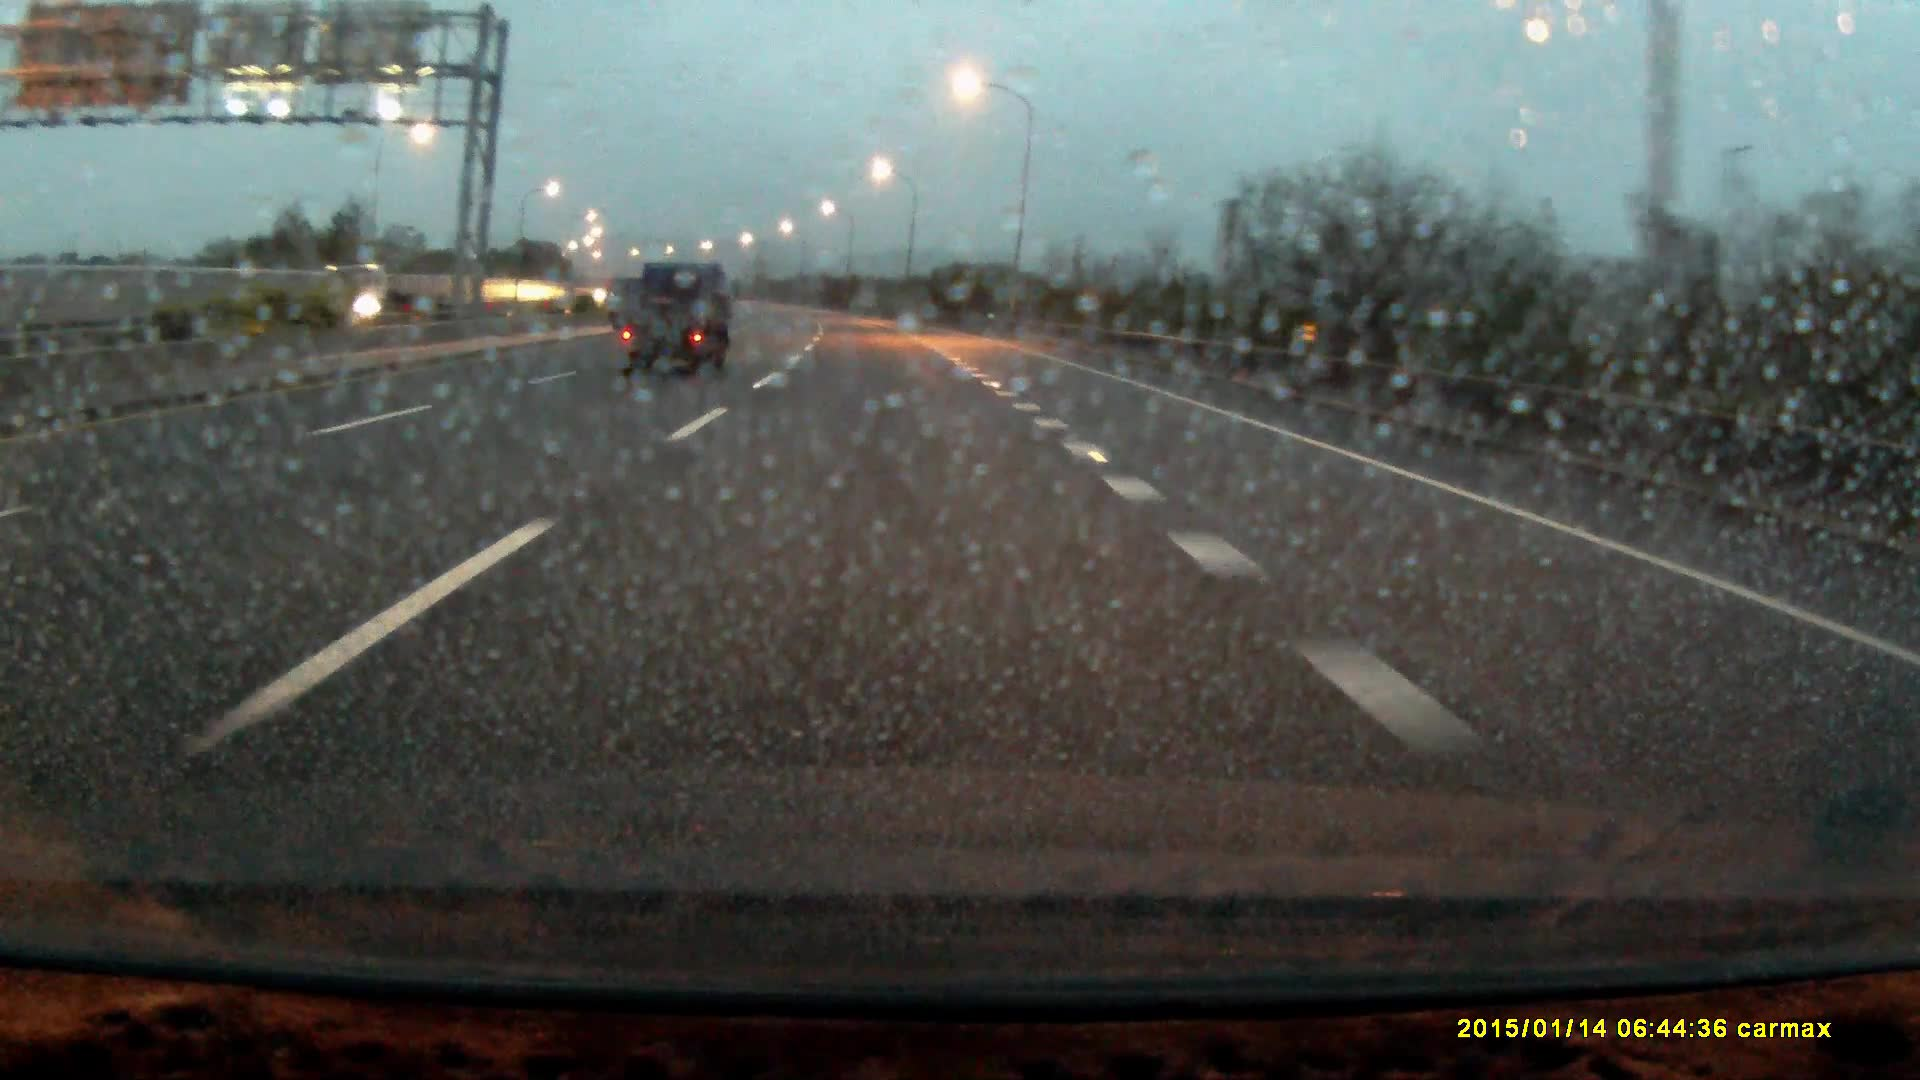vehicle: (618, 261, 735, 382), (315, 261, 443, 320)
